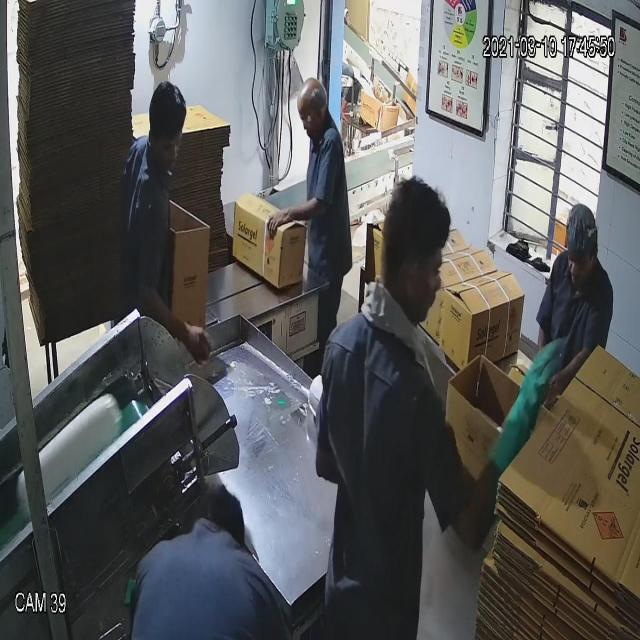No_Gloves: (70, 70, 525, 402)
